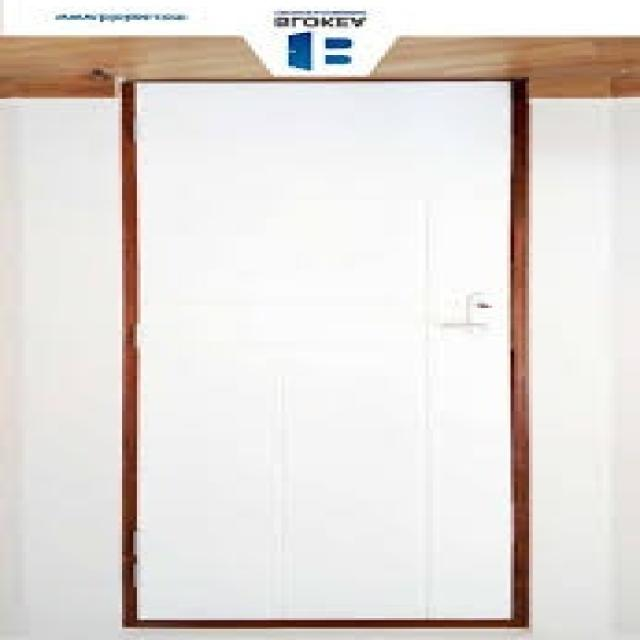door: (124, 78, 523, 630)
